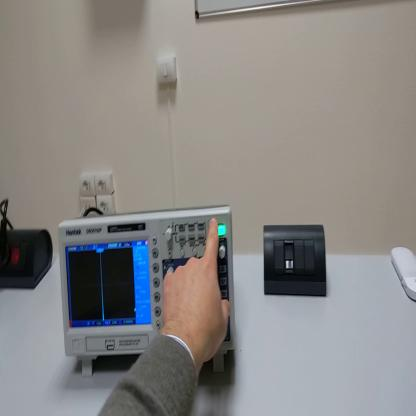hand: (160, 215, 232, 368)
oscilloscope: (53, 197, 233, 384)
socket: (2, 227, 55, 293)
